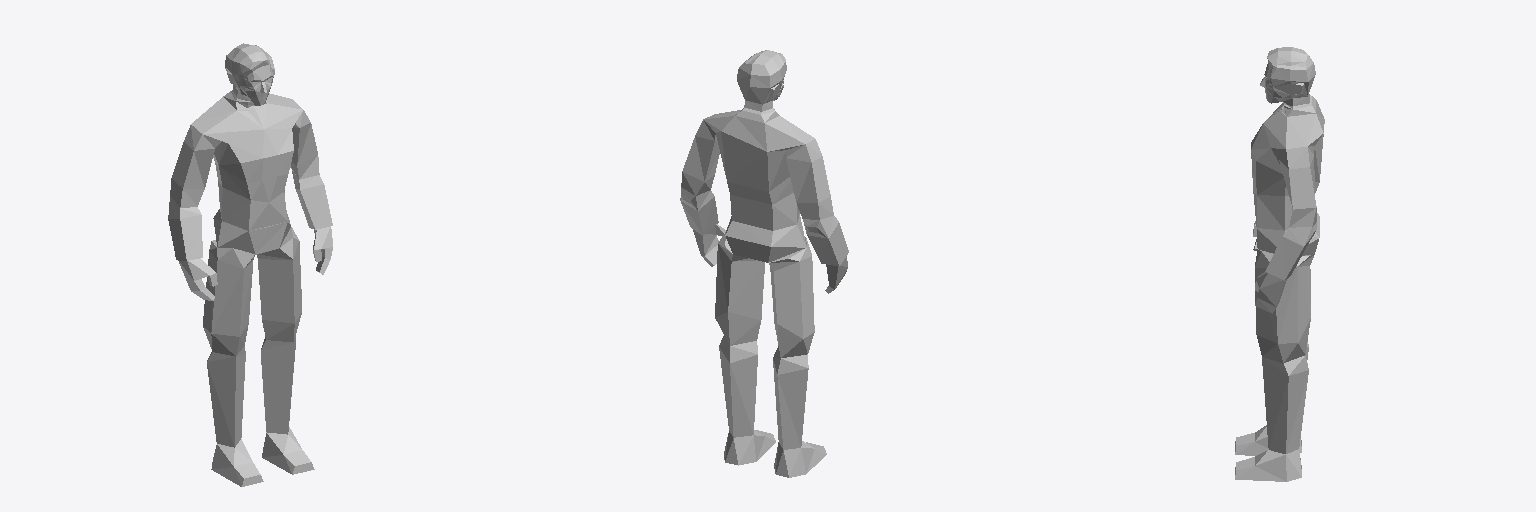
Rendered from Manuel119.obj.
The picture shows the model from 3 angles: view 1: azimuth 30°, elevation 25°; view 2: azimuth 150°, elevation 25°; view 3: azimuth 270°, elevation 25°; orthographic projection.
Visible parts, largest first — view 1: leon; view 2: leon; view 3: leon.
Boxes of the visible parts, x1,y1,x2,y2 form: leon: [168, 43, 332, 486]; leon: [680, 50, 848, 477]; leon: [1235, 47, 1324, 481].
Bounding box in the file's own units: 4.68 × 12.19 × 2.4.